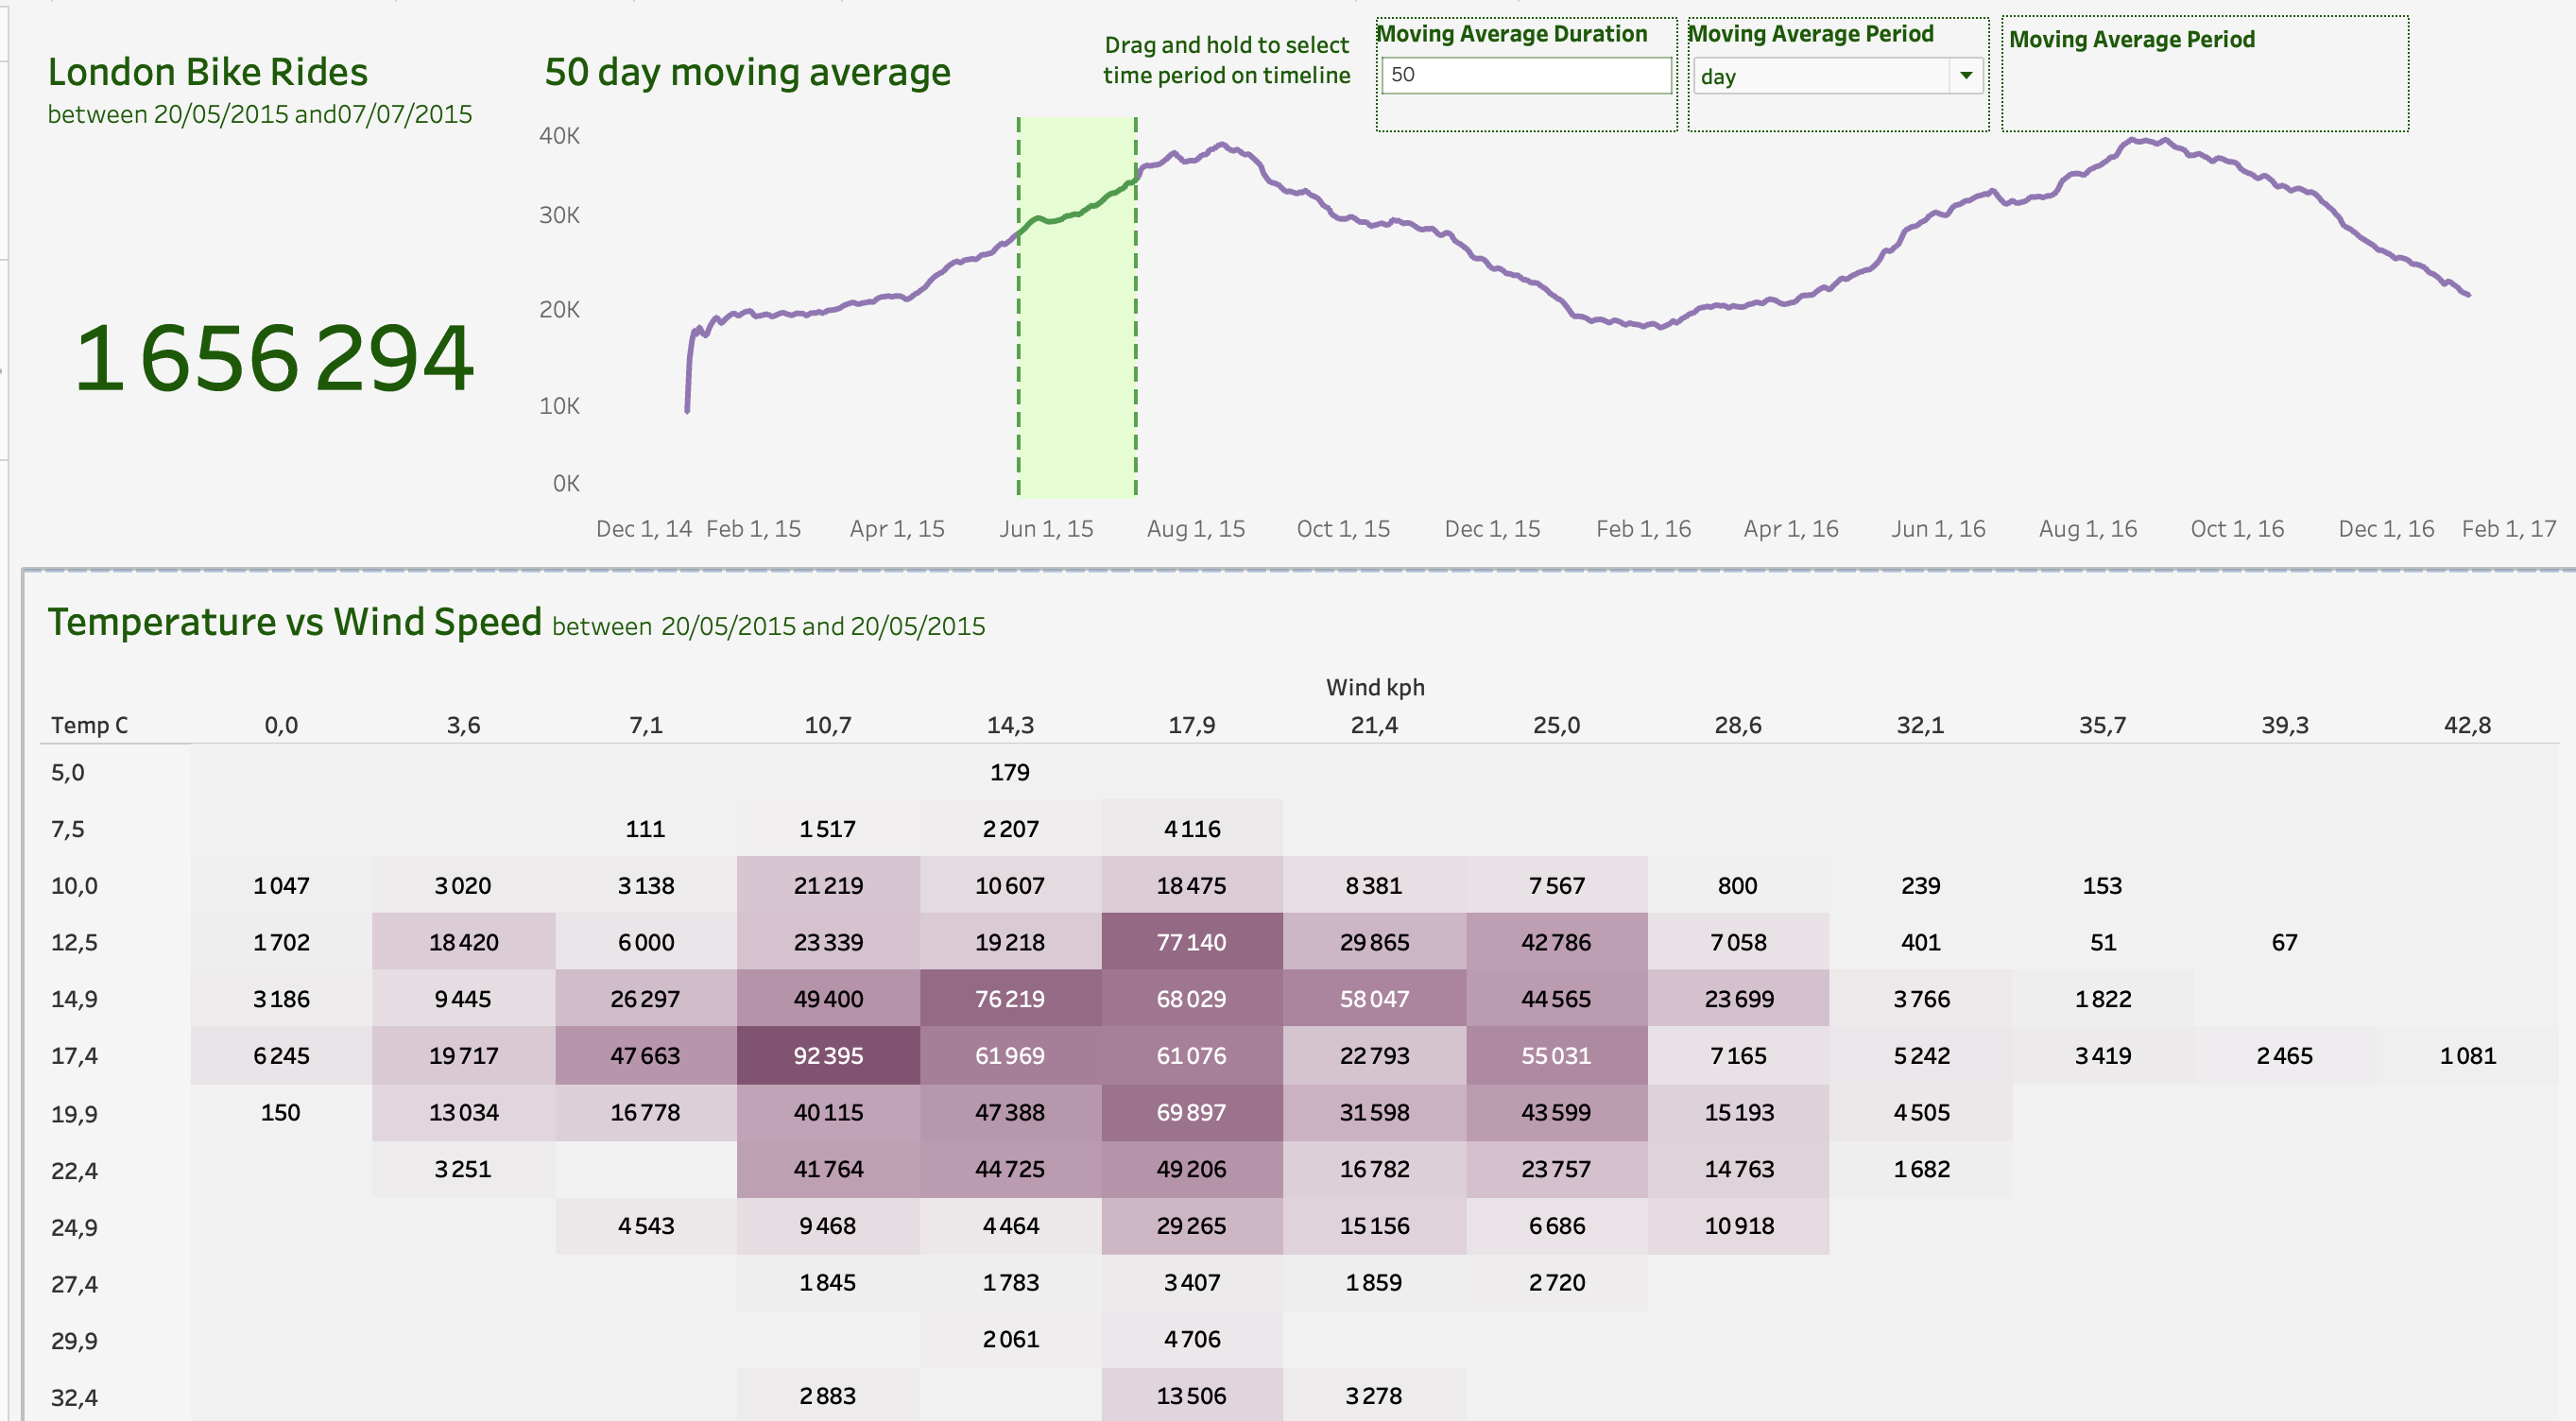

The page's visual inventory and layout, read from the dashboard file:
{"tool":"tableau","page":{"name":"Dashboard_London Bikes","canvas":[1366,768],"ordinal":0},"visuals":[{"type":"filter","title":"Moving Average","param":"[federated.1bve0ql1pl722b1ggnarp0dwz2w2].[none:Calculation_1100778313613127683:q","box":[1054,5,216,62]},{"type":"text","box":[571,6,147,45]},{"type":"parameter","param":"[Parameters].[Parameter 2]","box":[723,6,160,61]},{"type":"parameter","param":"[Parameters].[Parameter 1]","box":[888,6,160,61]},{"type":"worksheet","title":"Total Rides","mark":"Automatic","box":[8,8,263,291]},{"type":"worksheet","title":"Moving Average","mark":"Automatic","rows":["Calculation1"],"cols":["Calculation_1100778313613127683"],"box":[271,8,1087,291]},{"type":"worksheet","title":"Heatmap","mark":"Square","rows":["temp real C (bin)"],"cols":["Wind Speed Kph (bin)"],"box":[8,299,1350,461]}]}

Visuals, with their boxes in screenshot pixels (x1, y1, x2, y2), scaled from the page's 1366x768 canvas onto the 2576x1421 screenshot:
"Moving Average" filter: [1987, 9, 2395, 124]
text: [1076, 11, 1354, 94]
parameter: [1364, 11, 1665, 124]
parameter: [1674, 11, 1976, 124]
"Total Rides" worksheet: [15, 15, 511, 554]
"Moving Average" worksheet: [511, 15, 2561, 554]
"Heatmap" worksheet (Square marks): [15, 554, 2561, 1406]
